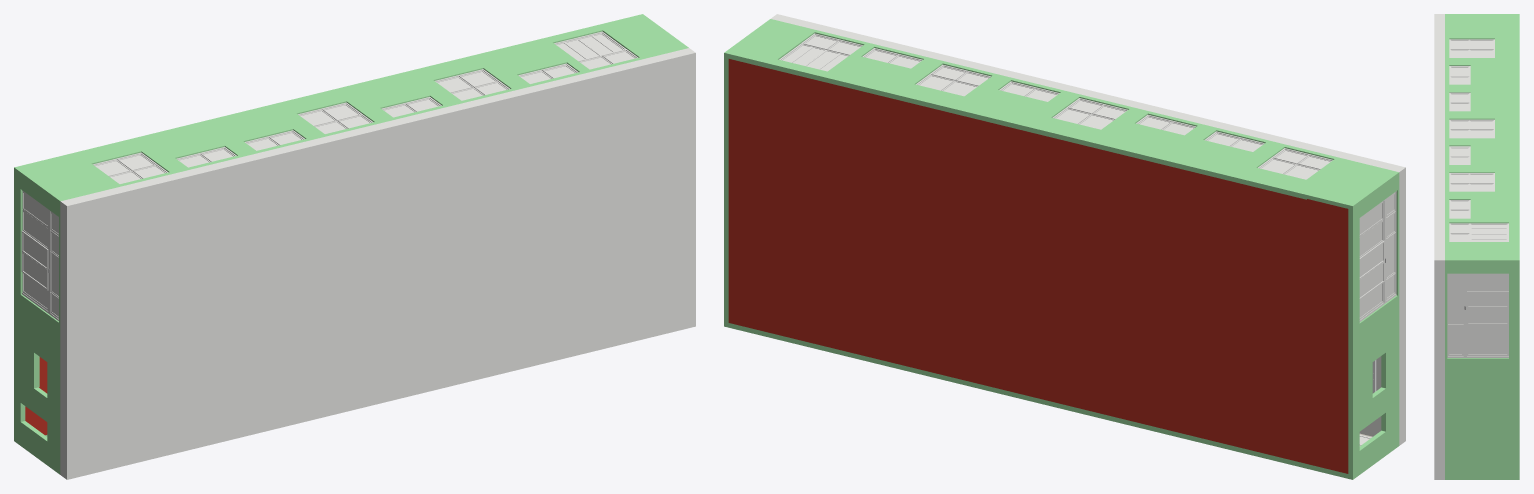
File: vestibul v7.fbx
3 renders of one model, left to right at view 1: azimuth 30°, elevation 25°; view 2: azimuth 150°, elevation 25°; view 3: azimuth 270°, elevation 25°, orthographic. The views are drawn at different scales.
Visible parts, largest first — view 1: strop, steny; view 2: podlaha, steny, strop, stena; view 3: steny, strop, stena (1), nepoh_cast2_sklo (1), nepoh_cast1_sklo (1), poh_cast1_sklo (1), poh_cast2_sklo (1), bocne_dvere_sklo (1), okno3_sklo (1), bocne dvere (1), Body190, nepoh_cast2 (1) (+41 smaller).
Part boxes in pixels (x1,y1,x2,y2): strop: (60,48,695,479); steny: (14,14,688,474); podlaha: (728,59,1348,473); steny: (724,19,1399,479); strop: (771,14,1405,445); stena: (1359,191,1396,321); steny: (1445,14,1519,479); strop: (1434,14,1444,479); stena (1): (1447,273,1508,357); nepoh_cast2_sklo (1): (1468,276,1507,290); nepoh_cast1_sklo (1): (1468,325,1507,339); poh_cast1_sklo (1): (1468,292,1507,306); poh_cast2_sklo (1): (1468,309,1507,322); bocne_dvere_sklo (1): (1468,342,1507,354); okno3_sklo (1): (1449,292,1461,322); bocne dvere (1): (1467,341,1508,356); Body190: (1449,223,1508,241); nepoh_cast2 (1): (1467,274,1508,291).
Bounding box in the file's own units: 27400 × 11400 × 4000.
